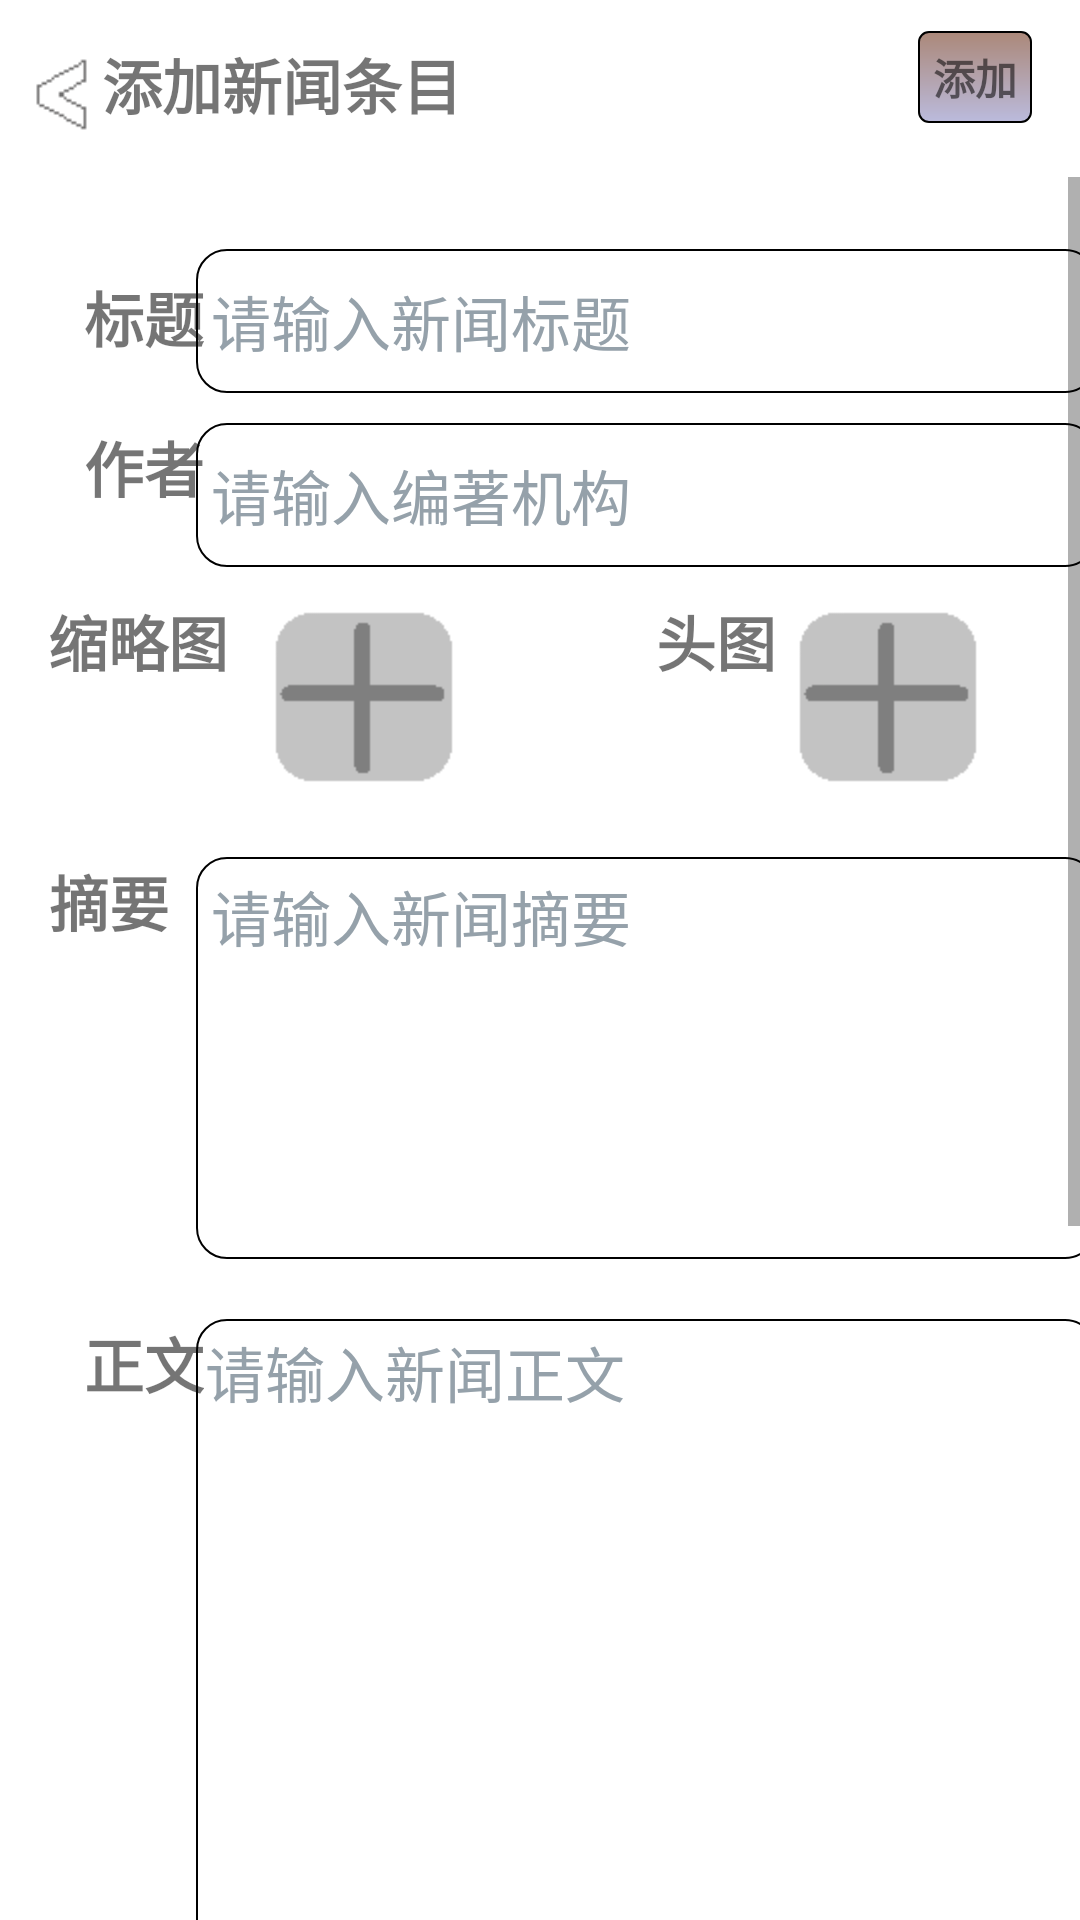

Named icons in this screenshot (1080 x 1920) and their centers, (x=x, y=y):
addphoto: (x=364, y=697), (x=888, y=697)
back: (x=61, y=94)
